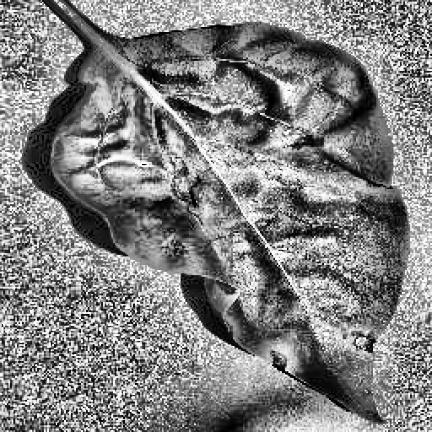leaf: (44, 0, 408, 418)
